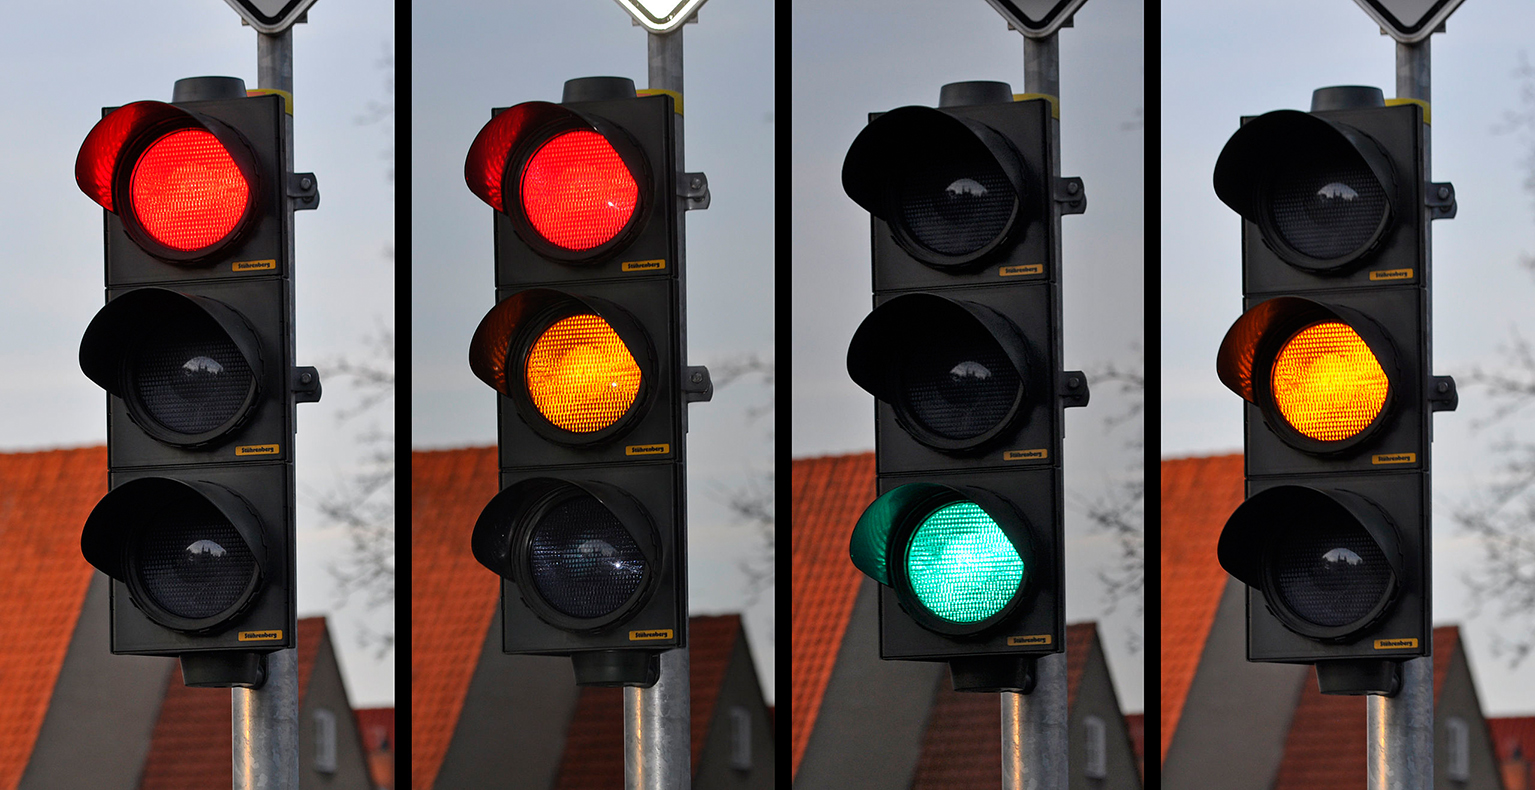go: (853, 93, 1071, 671)
stop: (74, 91, 305, 656), (470, 88, 694, 673)
warning: (1226, 99, 1437, 670)
